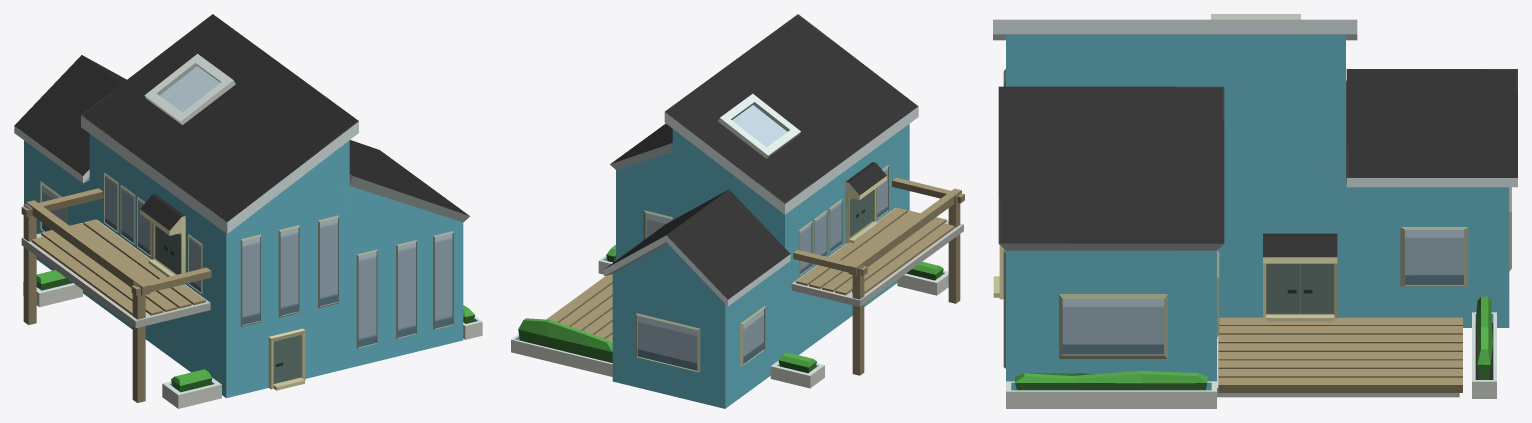
The model's file is Rich Suburb House.fbx.
3 views of the same model, side by side, from view 1: azimuth 30°, elevation 25°; view 2: azimuth 150°, elevation 25°; view 3: azimuth 270°, elevation 25° (orthographic). The views are drawn at different scales.
Visible parts, largest first — view 1: Rich Suburb House; view 2: Rich Suburb House; view 3: Rich Suburb House.
Part boxes in pixels (left/top/right/bottom): Rich Suburb House: left=14, top=14, right=482, bottom=408; Rich Suburb House: left=511, top=14, right=964, bottom=408; Rich Suburb House: left=993, top=14, right=1517, bottom=408.
Size of the model in its own units: 5.41 by 3.88 by 5.93.
